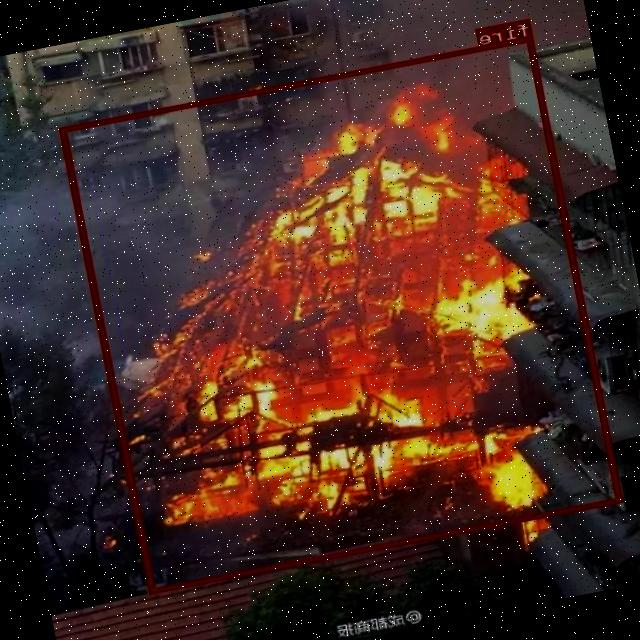fire: (61, 35, 624, 593)
